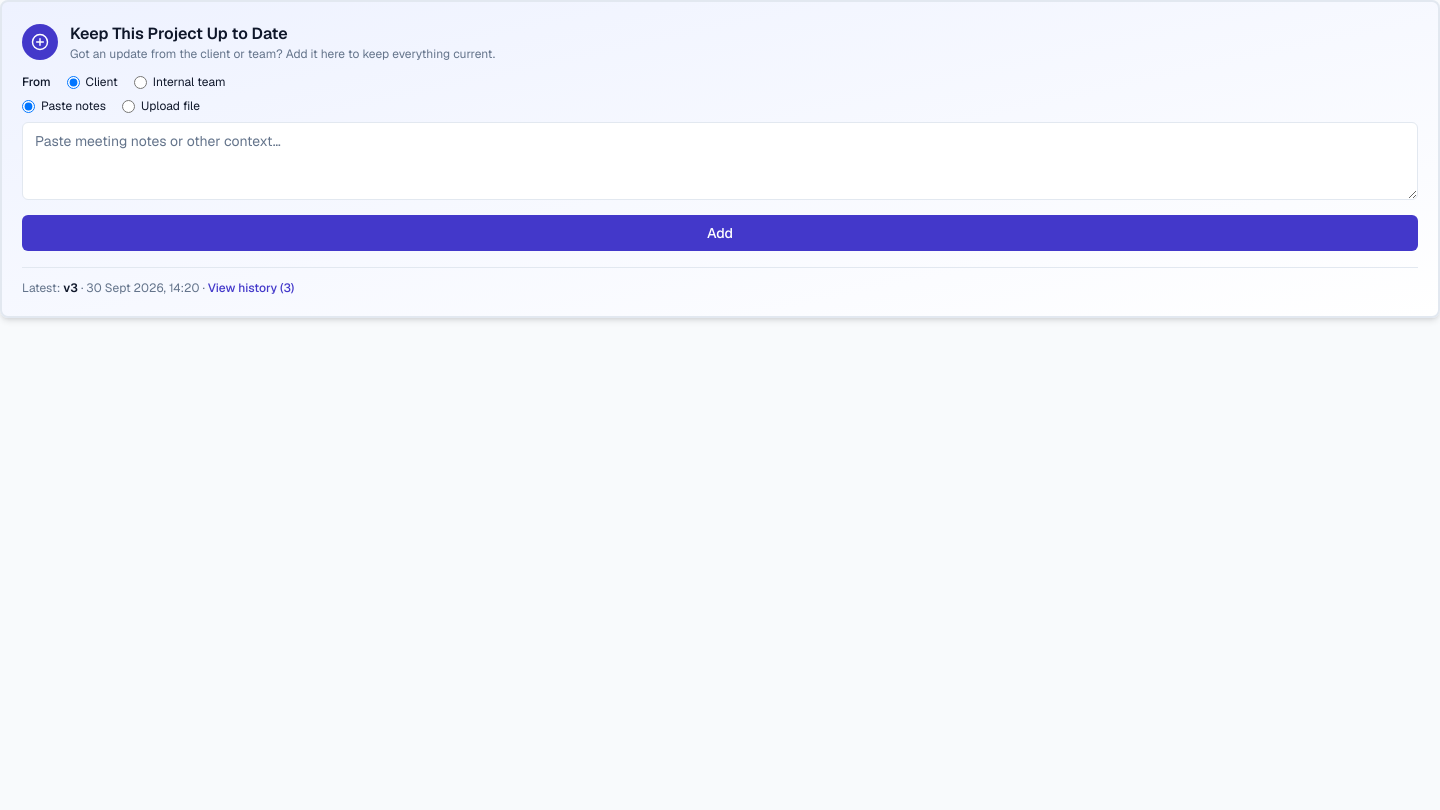
Test: KnowledgeUpload › version history › opens a drawer listing every version newest first, with label and date on one line, source as a tag, and the Changed summary kept
Click the button "View history (3)" at point(251, 288), box left=208, top=280, right=294, bottom=296
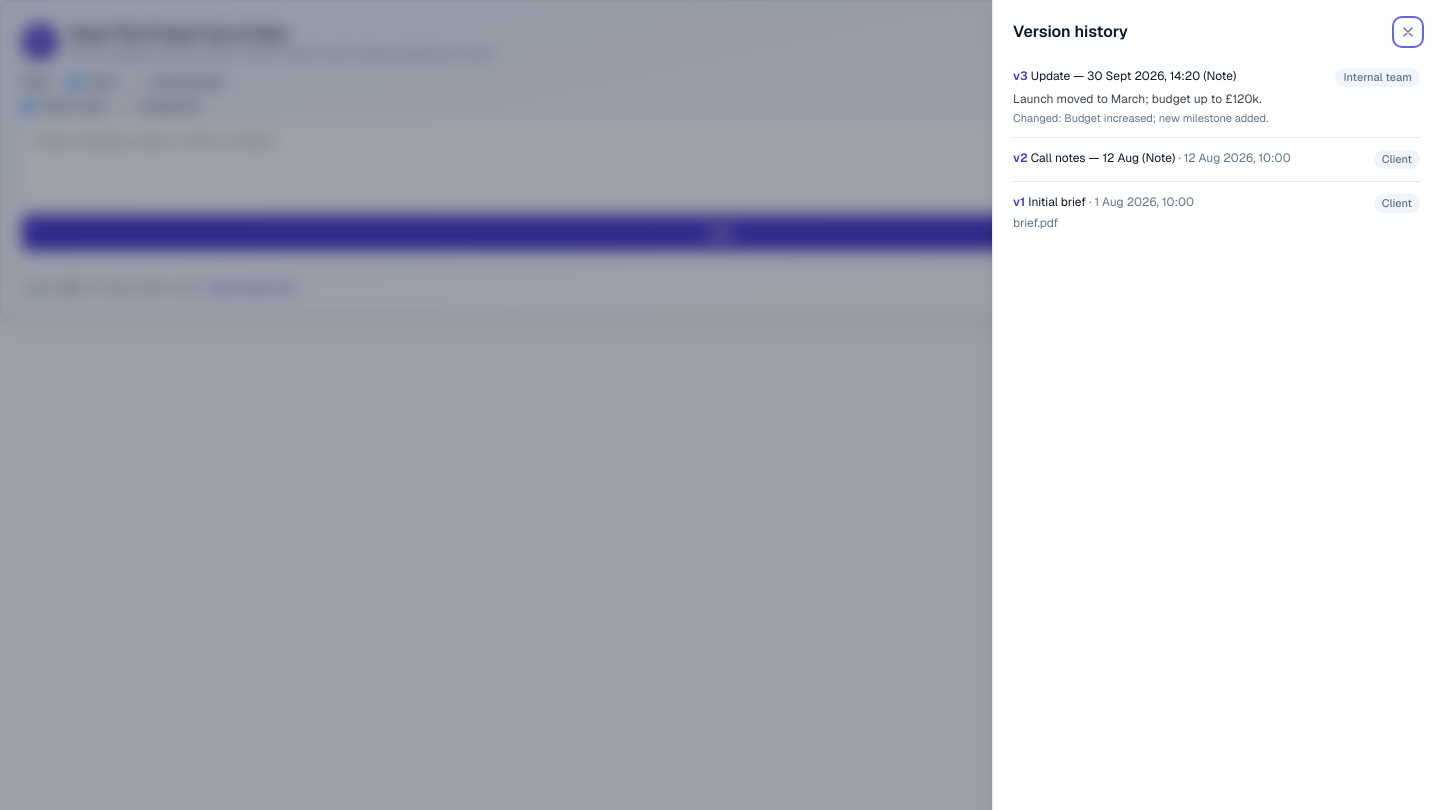
expect the number of list items is 3: met, box left=1013, top=56, right=1420, bottom=138; left=1013, top=138, right=1420, bottom=182; left=1013, top=182, right=1420, bottom=243
expect the list item that starts with "Update — 30 Sept 2026, 14:20 (Note)" shows "v3": met, box left=1013, top=68, right=1028, bottom=84
expect the list item that starts with "Update — 30 Sept 2026, 14:20 (Note)" is shown: met, box left=1031, top=68, right=1236, bottom=84
